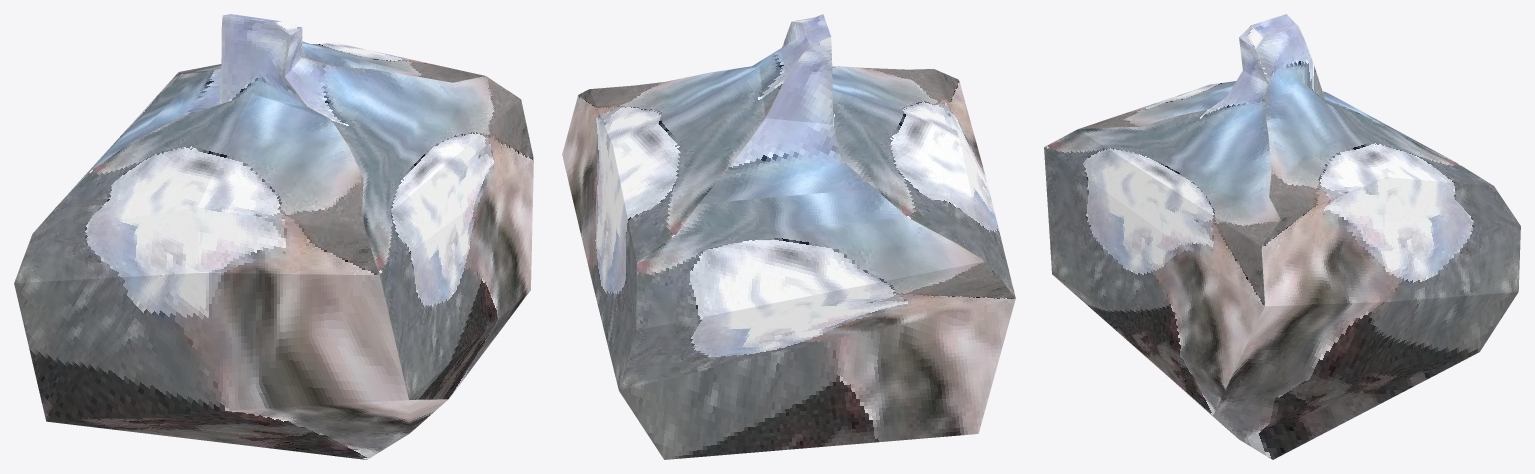
3 views of the same model, side by side, from view 1: azimuth 30°, elevation 25°; view 2: azimuth 150°, elevation 25°; view 3: azimuth 270°, elevation 25° (orthographic). The views are drawn at different scales.
Visible parts, largest first — view 1: SPLICE_2.003; view 2: SPLICE_2.003; view 3: SPLICE_2.003.
Part boxes in pixels (<box>): SPLICE_2.003: <box>14,14,533,459</box>; SPLICE_2.003: <box>562,14,1015,459</box>; SPLICE_2.003: <box>1044,14,1520,459</box>.
Size of the model in its own units: 2.5 by 2.25 by 2.49.
1 material, 1 textured.
